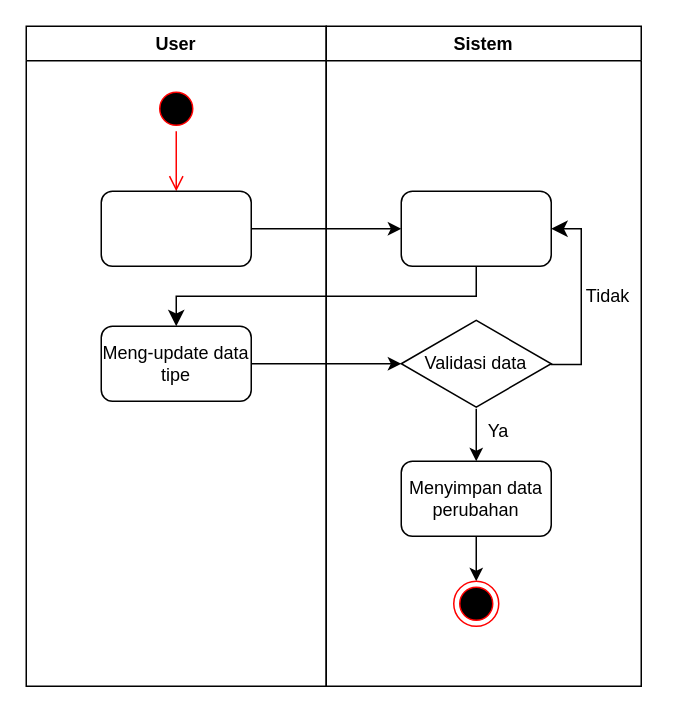
Some shapes in this 680 by 713 pixel diagram are drawn without their labels. The shapes that lost their labels are listed below. From the top down, each one's centre as x and y in pixels, then its label:
At [175,228]: "Memilih tombol update data".
At [475,228]: "Menampilkan halaman edit data".
